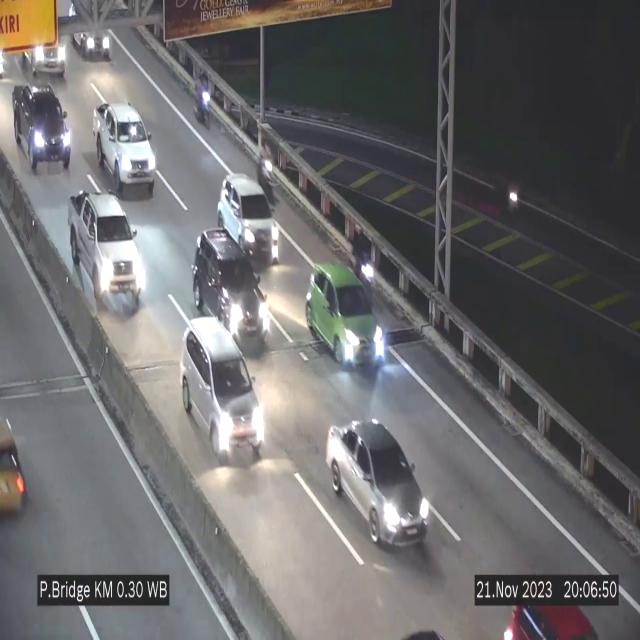Car: (327, 420, 431, 547), (182, 318, 264, 462), (190, 228, 274, 359), (68, 191, 145, 312), (306, 262, 385, 368), (11, 75, 76, 177), (94, 103, 156, 197), (217, 175, 279, 261), (0, 412, 39, 519), (68, 1, 112, 63), (22, 26, 74, 77)
Motorcycle: (351, 220, 376, 298), (257, 132, 278, 206), (195, 62, 211, 134)
